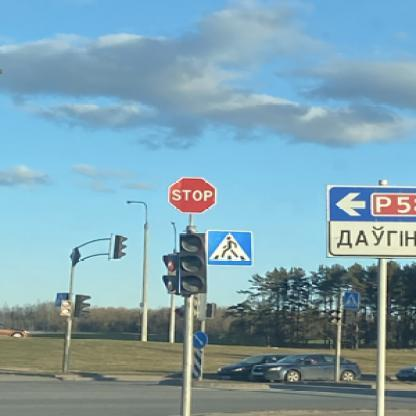Stop: (169, 176, 217, 214)
